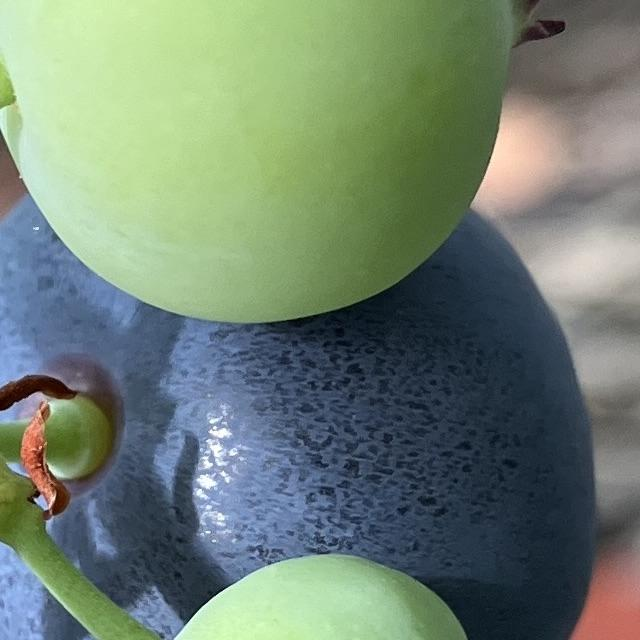Blueberries: (0, 0, 605, 330), (127, 553, 574, 640)
